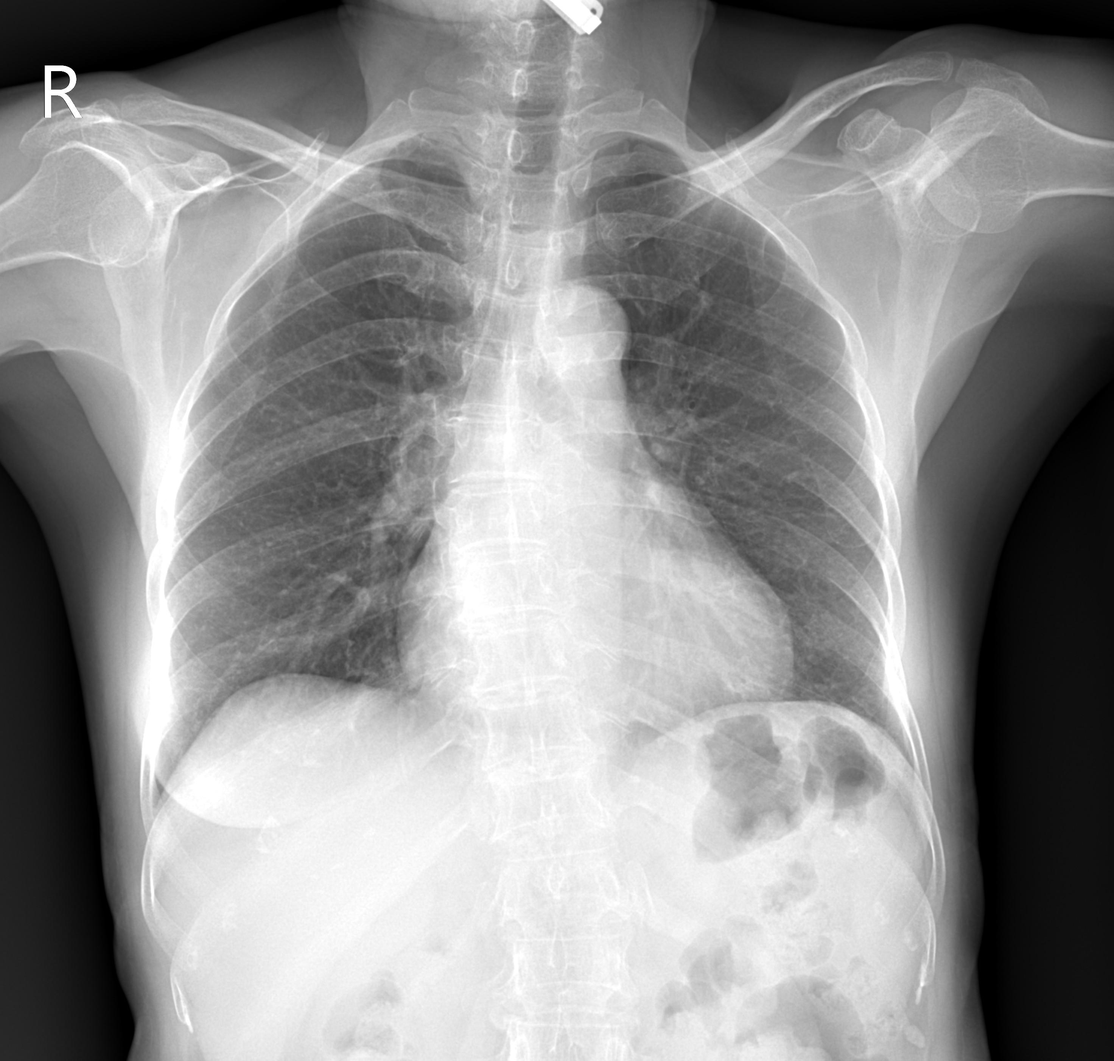Cardiomegaly: (388, 596, 798, 725)
